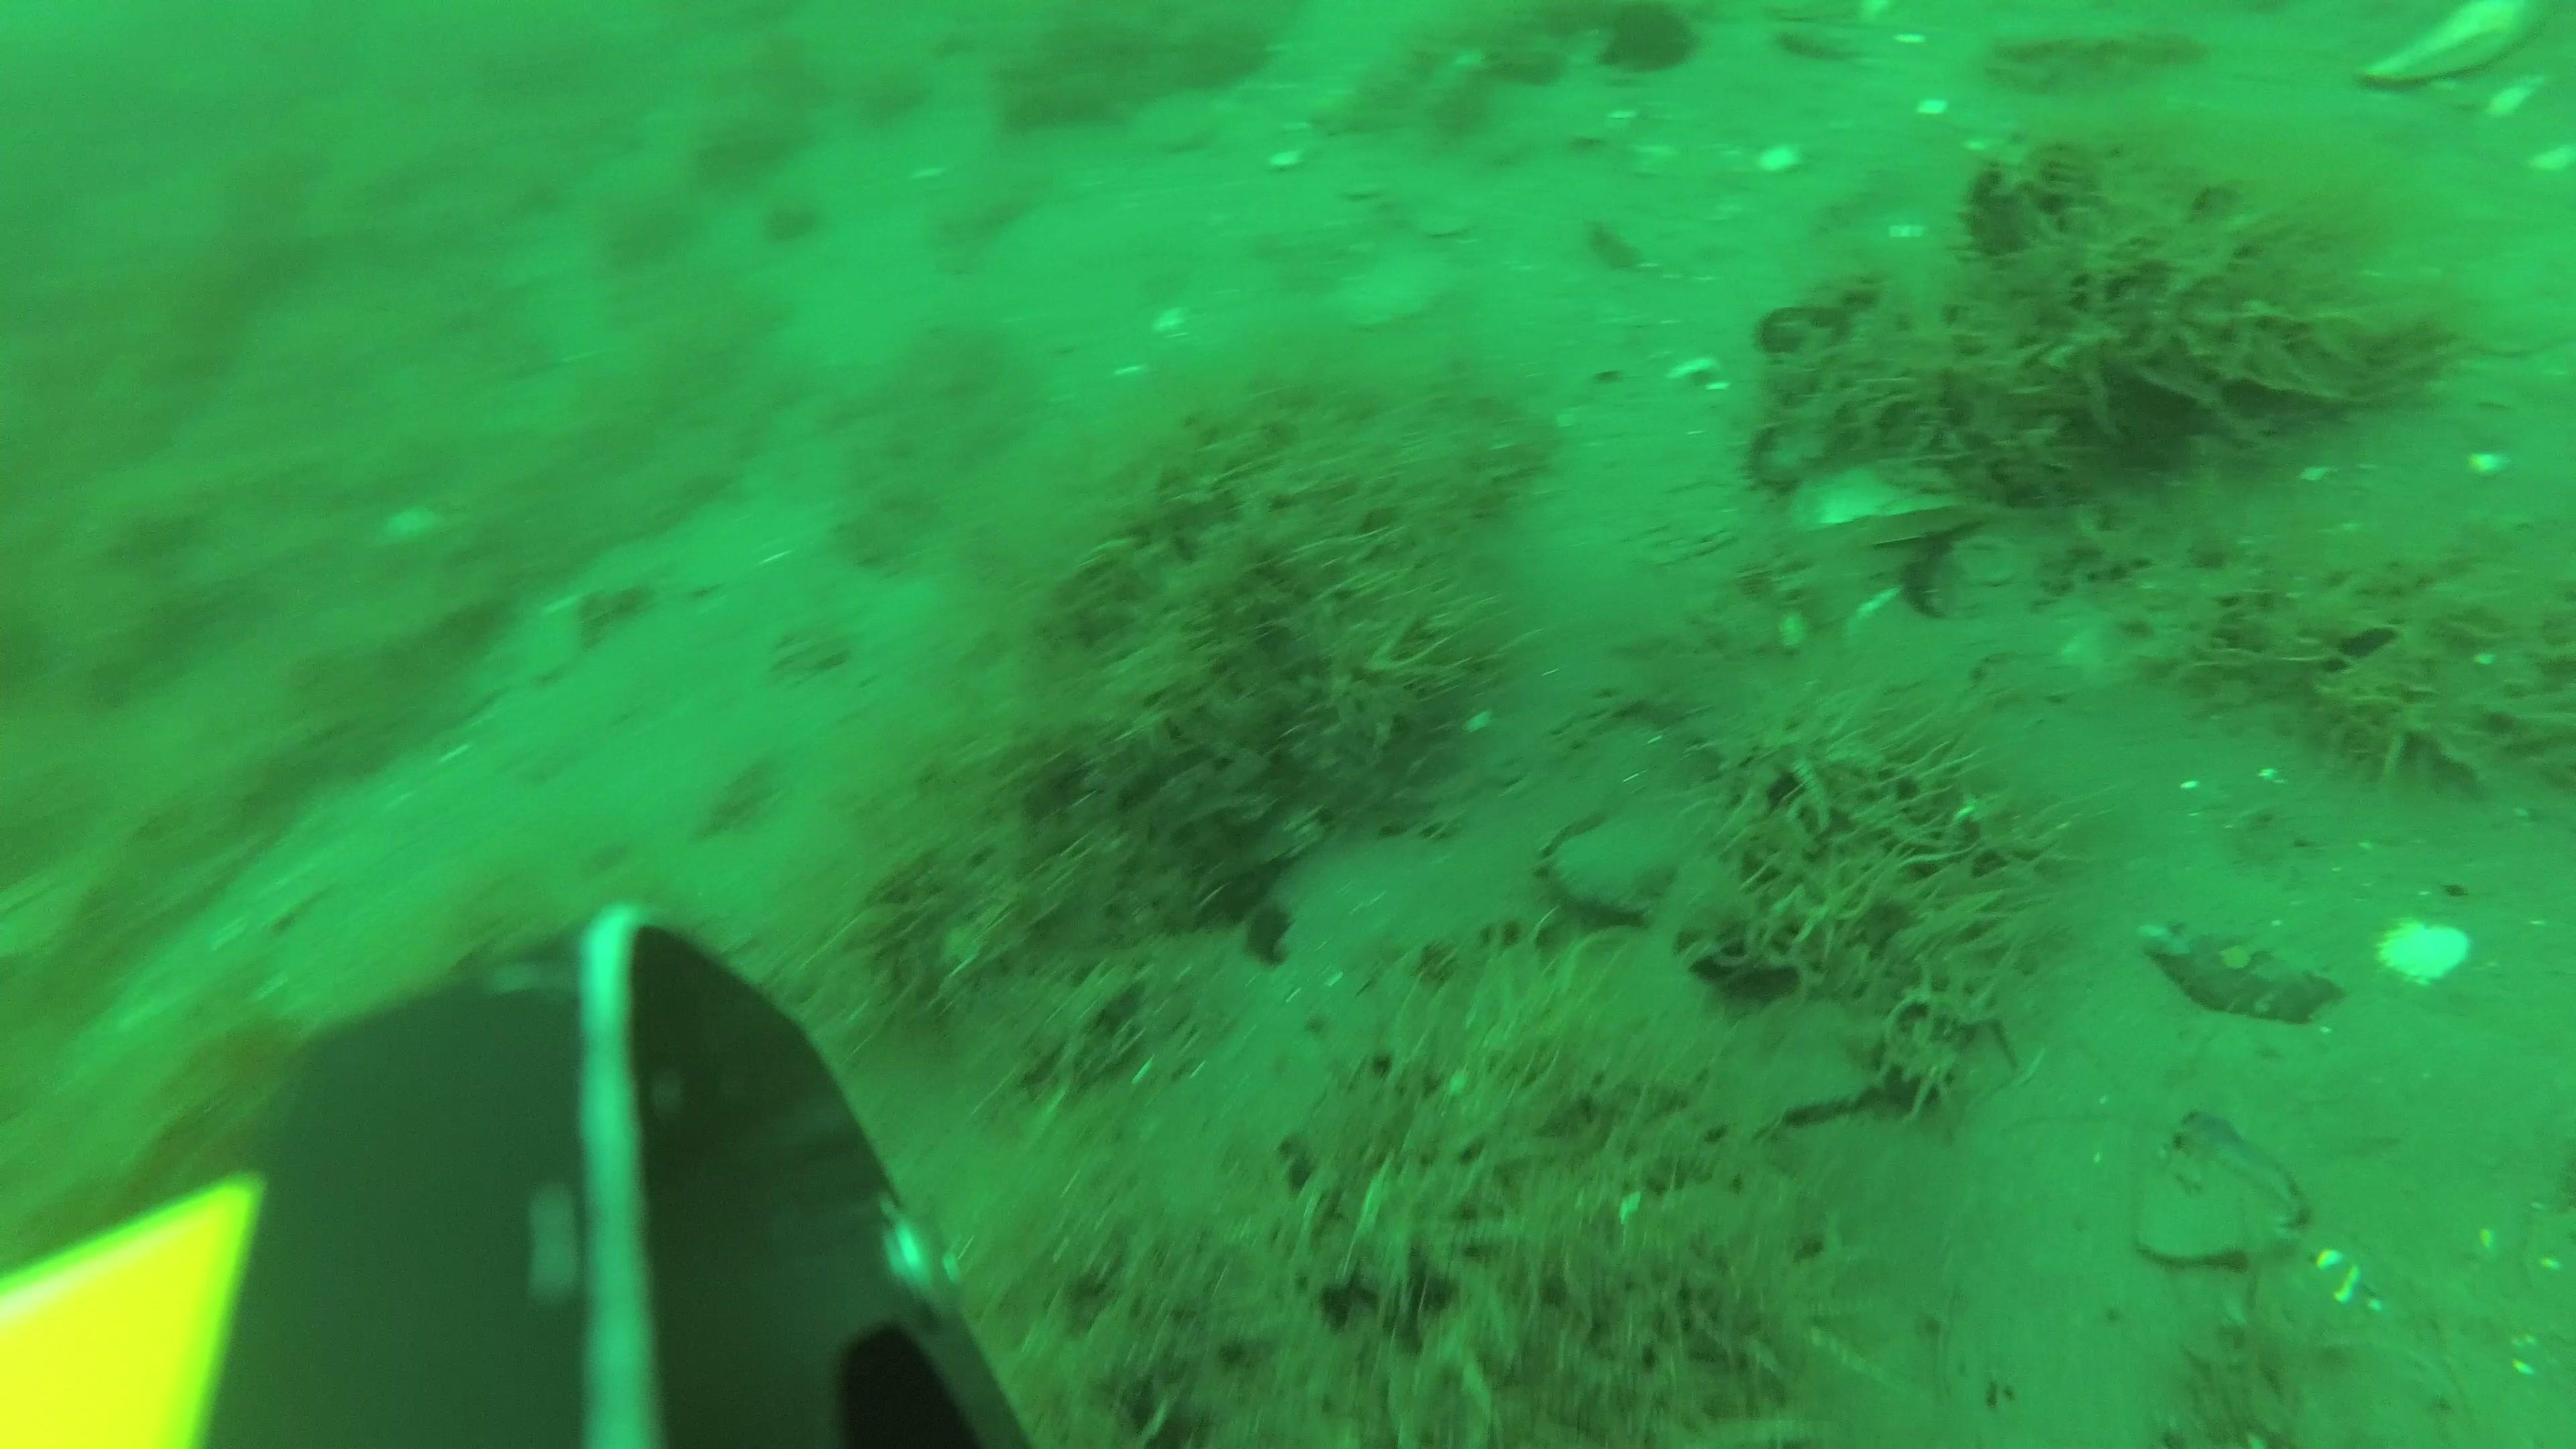scallop: (1352, 255, 1453, 322), (1125, 88, 1215, 157), (1385, 189, 1465, 226)
